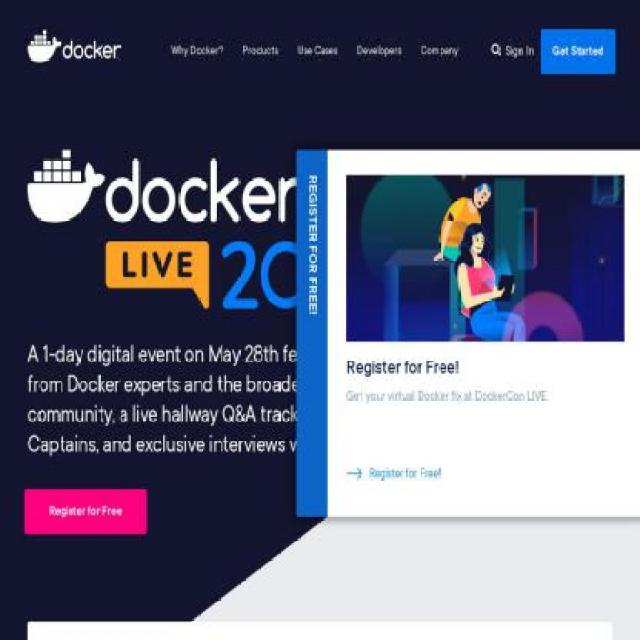button: (24, 489, 147, 534), (28, 28, 122, 75), (539, 29, 616, 74), (166, 34, 228, 68), (351, 34, 407, 68), (291, 34, 344, 68), (236, 34, 284, 68), (415, 34, 463, 68), (506, 42, 534, 62), (491, 42, 500, 62)
